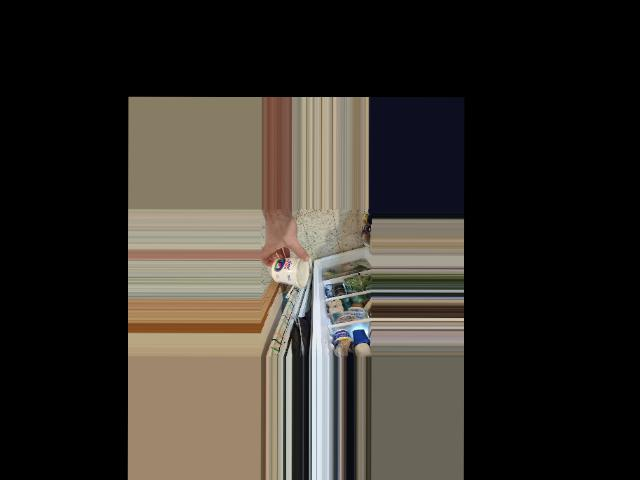cotage: (270, 254, 310, 286)
